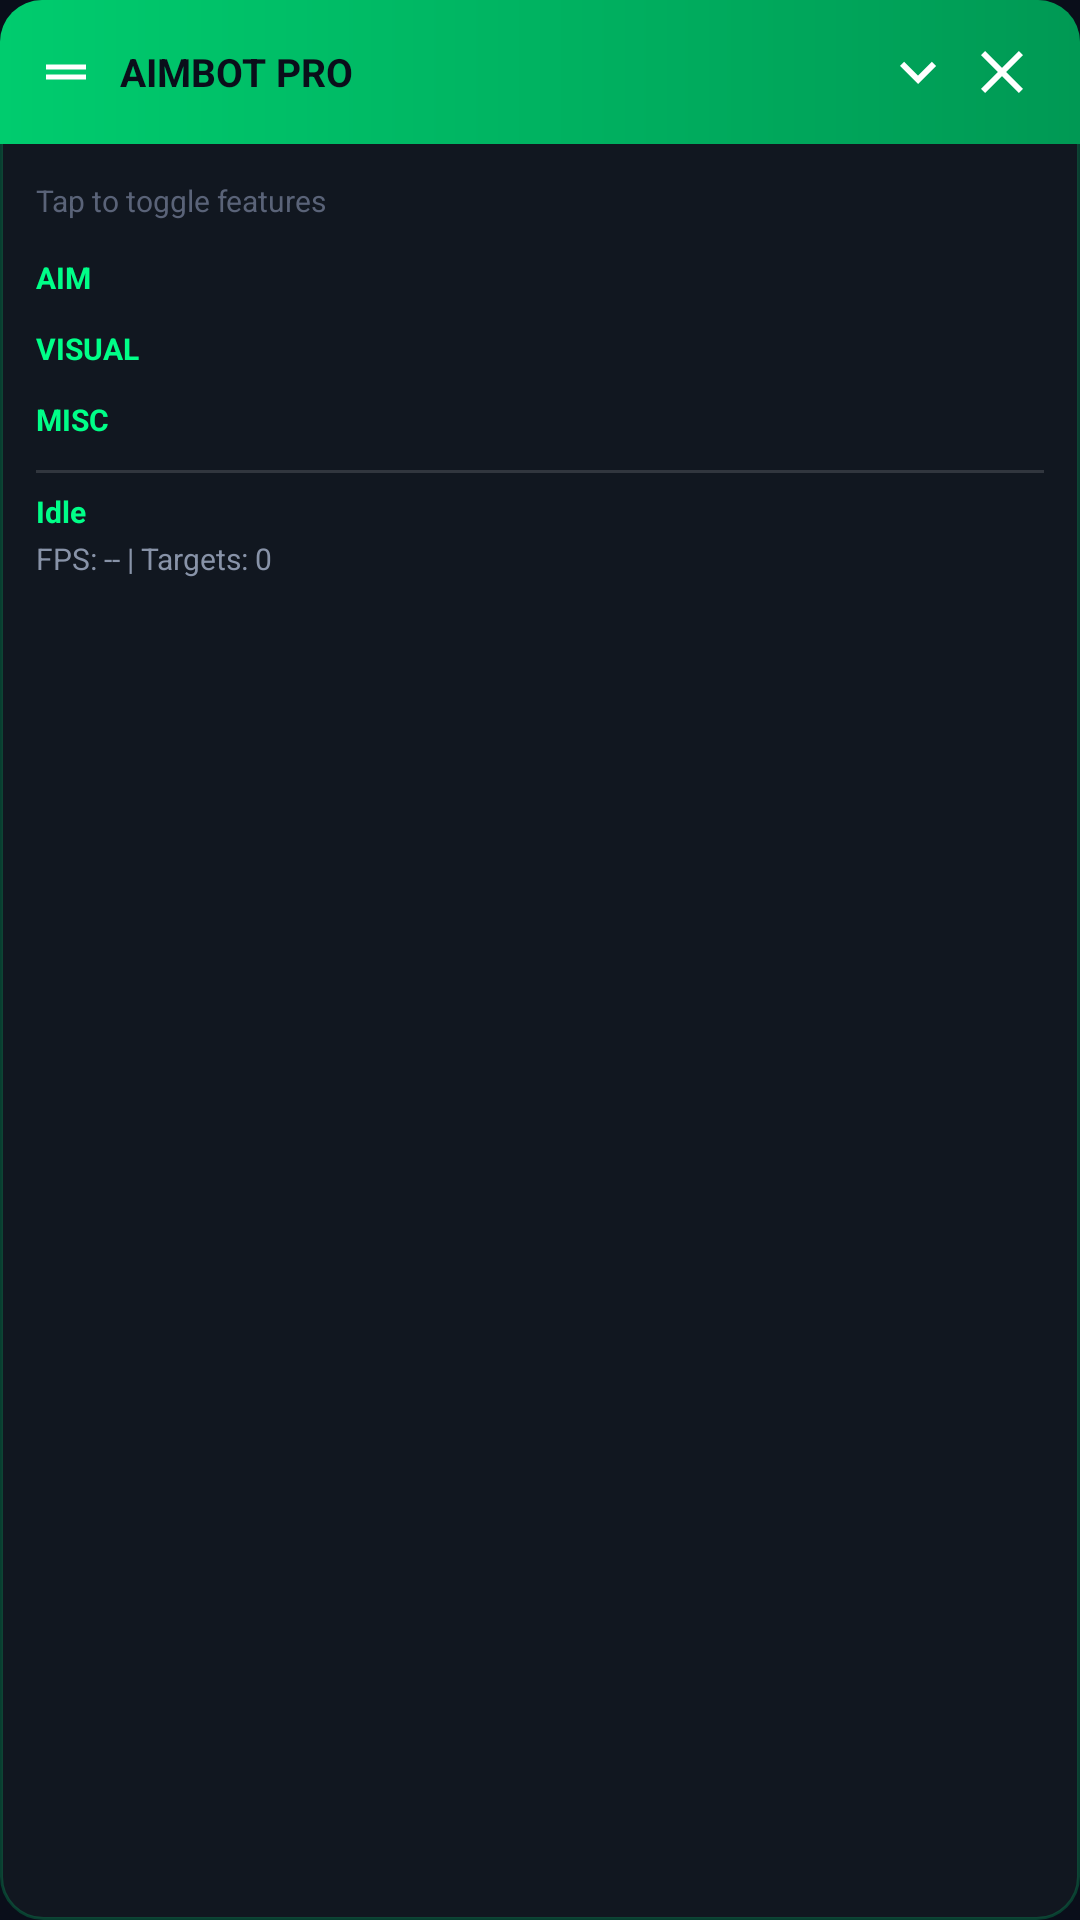

Screen size 1080px x 1920px. Icon name, then its center in pixels as point (x, y):
close: point (1002, 72)
collapse: point (918, 73)
drag: point (66, 72)
